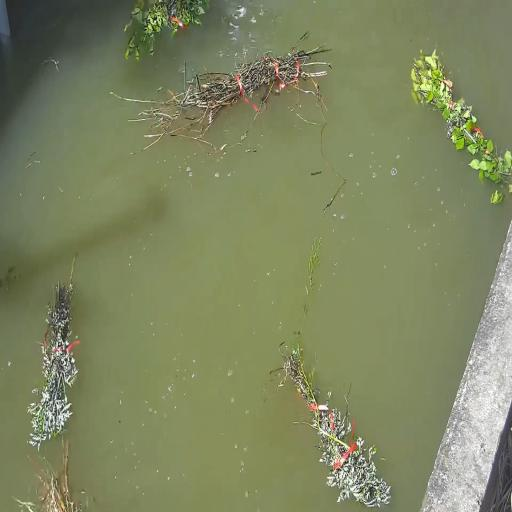twig: (272, 331, 390, 507), (142, 45, 330, 140), (411, 51, 512, 191), (27, 280, 79, 449), (125, 0, 209, 60), (14, 439, 83, 512), (302, 240, 321, 325)
